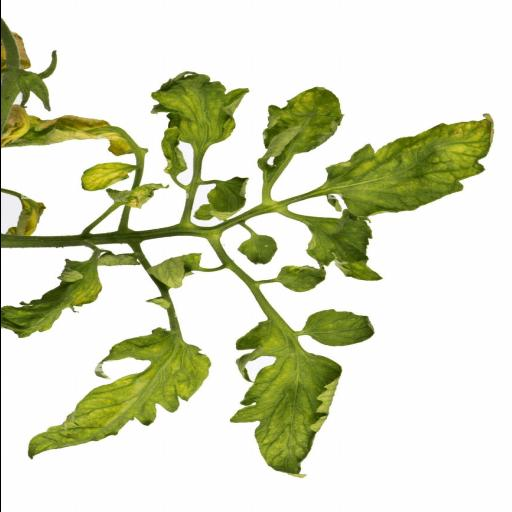Mosaic Virus: (24, 328, 212, 460), (226, 320, 344, 480), (323, 112, 497, 220), (0, 248, 146, 340), (145, 70, 251, 146), (259, 85, 343, 155), (303, 210, 382, 282), (78, 162, 138, 192)
